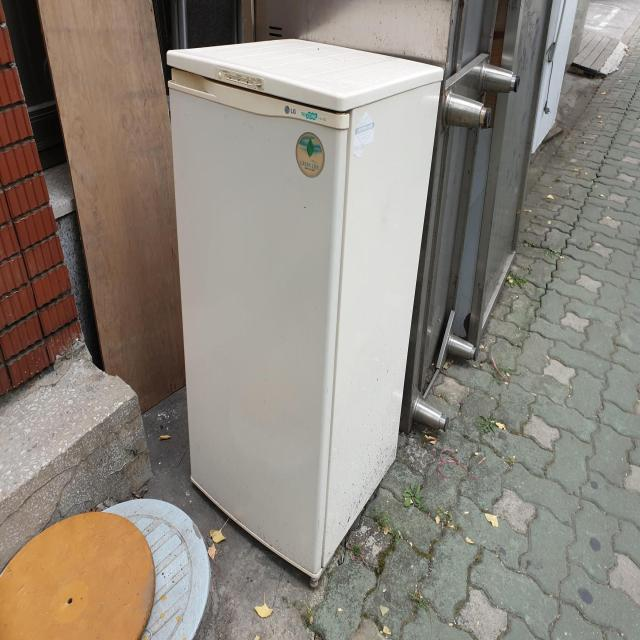refrigerator: (165, 33, 447, 590)
